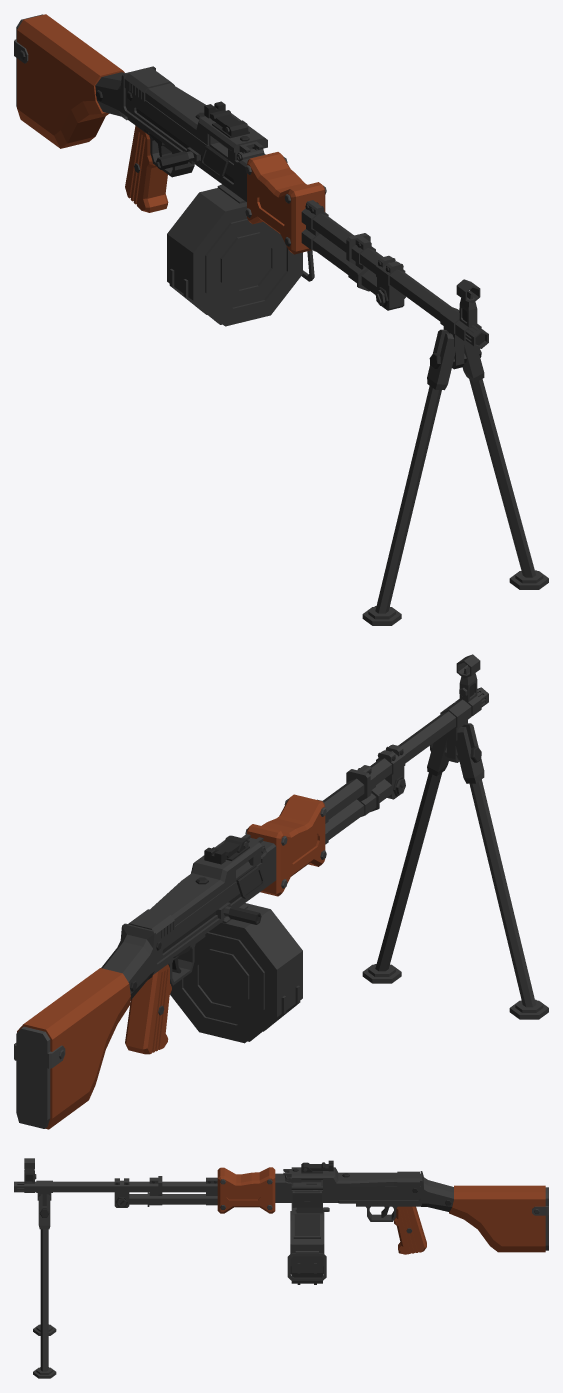
Rendered from LMG_A.fbx.
3 renders of one model, top to bottom at view 1: azimuth 30°, elevation 25°; view 2: azimuth 150°, elevation 25°; view 3: azimuth 270°, elevation 25°, orthographic. The views are drawn at different scales.
Visible parts, largest first — view 1: LMG_A_Mag, LMG_A_Stock, LMG_A_Barrel, LMG_A_Receiver, LMG_A_Bipod_Right, LMG_A_BarrelGuard, LMG_A_Receiver_Part, LMG_A_Bipod_Left, LMG_A_Grip; view 2: LMG_A_Mag, LMG_A_Stock, LMG_A_Barrel, LMG_A_Receiver, LMG_A_Bipod_Right, LMG_A_Receiver_Part, LMG_A_BarrelGuard, LMG_A_Bipod_Left, LMG_A_Grip, LMG_A_Bolt; view 3: LMG_A_Stock, LMG_A_Receiver, LMG_A_Barrel, LMG_A_Mag, LMG_A_BarrelGuard, LMG_A_Receiver_Part, LMG_A_Bipod_Left, LMG_A_Grip.
Part boxes in pixels (bbox=[...]): LMG_A_Mag: bbox=[167, 188, 314, 326]; LMG_A_Stock: bbox=[14, 14, 124, 148]; LMG_A_Barrel: bbox=[301, 200, 488, 369]; LMG_A_Receiver: bbox=[95, 66, 265, 203]; LMG_A_Bipod_Right: bbox=[362, 329, 456, 625]; LMG_A_BarrelGuard: bbox=[245, 152, 326, 254]; LMG_A_Receiver_Part: bbox=[124, 67, 267, 153]; LMG_A_Bipod_Left: bbox=[462, 342, 548, 589]; LMG_A_Grip: bbox=[125, 125, 168, 212]; LMG_A_Mag: bbox=[170, 903, 302, 1043]; LMG_A_Stock: bbox=[14, 968, 130, 1129]; LMG_A_Barrel: bbox=[317, 654, 488, 844]; LMG_A_Receiver: bbox=[101, 838, 276, 999]; LMG_A_Bipod_Right: bbox=[454, 723, 548, 1019]; LMG_A_Receiver_Part: bbox=[128, 834, 263, 942]; LMG_A_BarrelGuard: bbox=[245, 794, 326, 896]; LMG_A_Bipod_Left: bbox=[362, 736, 448, 983]; LMG_A_Grip: bbox=[125, 964, 171, 1054]; LMG_A_Bolt: bbox=[216, 902, 261, 924]; LMG_A_Stock: bbox=[449, 1185, 548, 1252]; LMG_A_Receiver: bbox=[275, 1171, 453, 1221]; LMG_A_Barrel: bbox=[14, 1158, 217, 1208]; LMG_A_Mag: bbox=[287, 1203, 326, 1284]; LMG_A_BarrelGuard: bbox=[217, 1167, 275, 1213]; LMG_A_Receiver_Part: bbox=[283, 1160, 419, 1187]; LMG_A_Bipod_Left: bbox=[33, 1194, 56, 1378]; LMG_A_Grip: bbox=[394, 1206, 426, 1254].
Size of the model in its own units: 0.312 by 0.5525 by 1.38.
